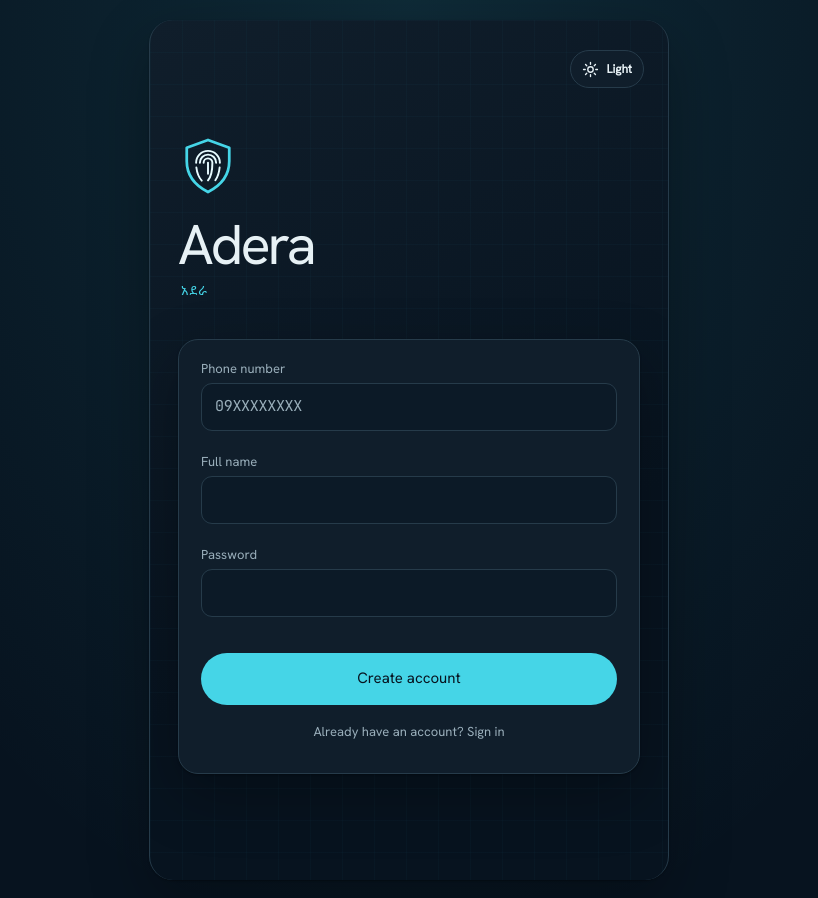
Test case: creating an account › needs a password of at least 8 characters
The image size is (818, 898).
Step 1. Type "0922123457" into the field labelled "Phone number" → (409, 407), box [201,383,617,431]
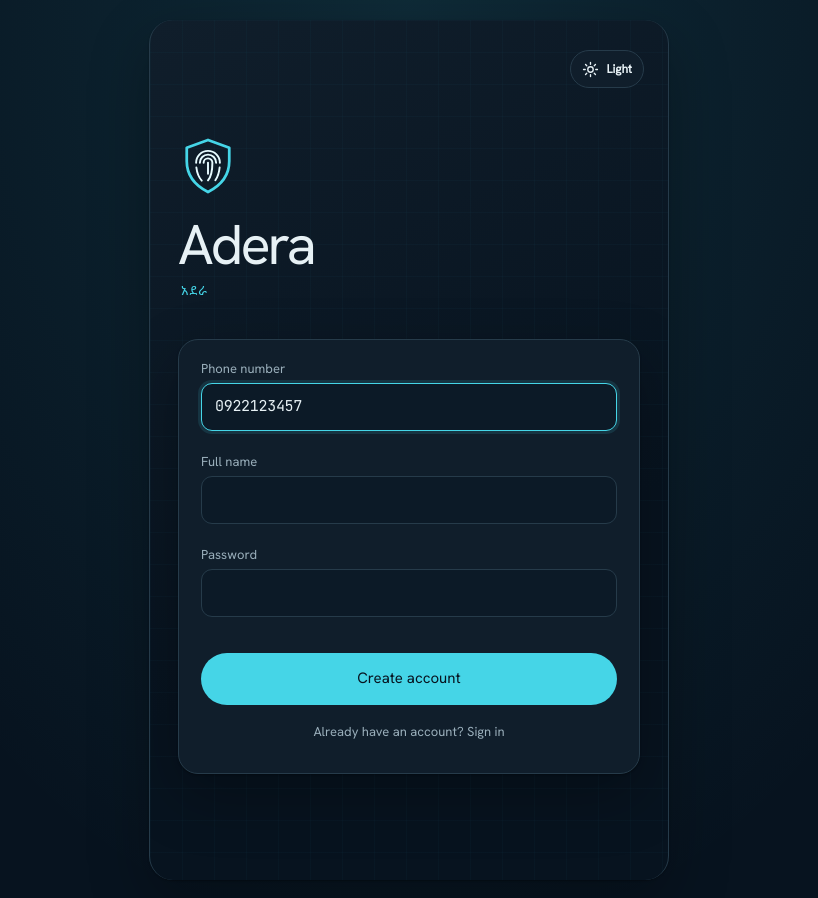
Step 2. Type "Sara Bekele" into the field labelled "Full name" → (409, 500), box [201,476,617,524]
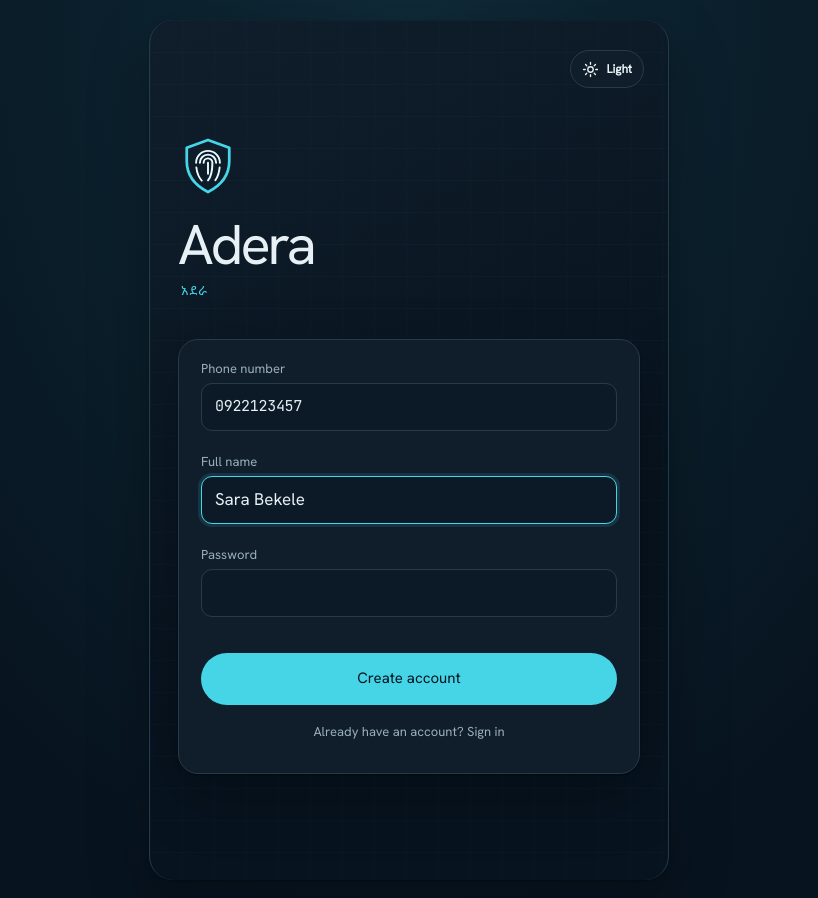
Step 3. Type "short" into the password field labelled "Password" → (409, 593), box [201,569,617,617]
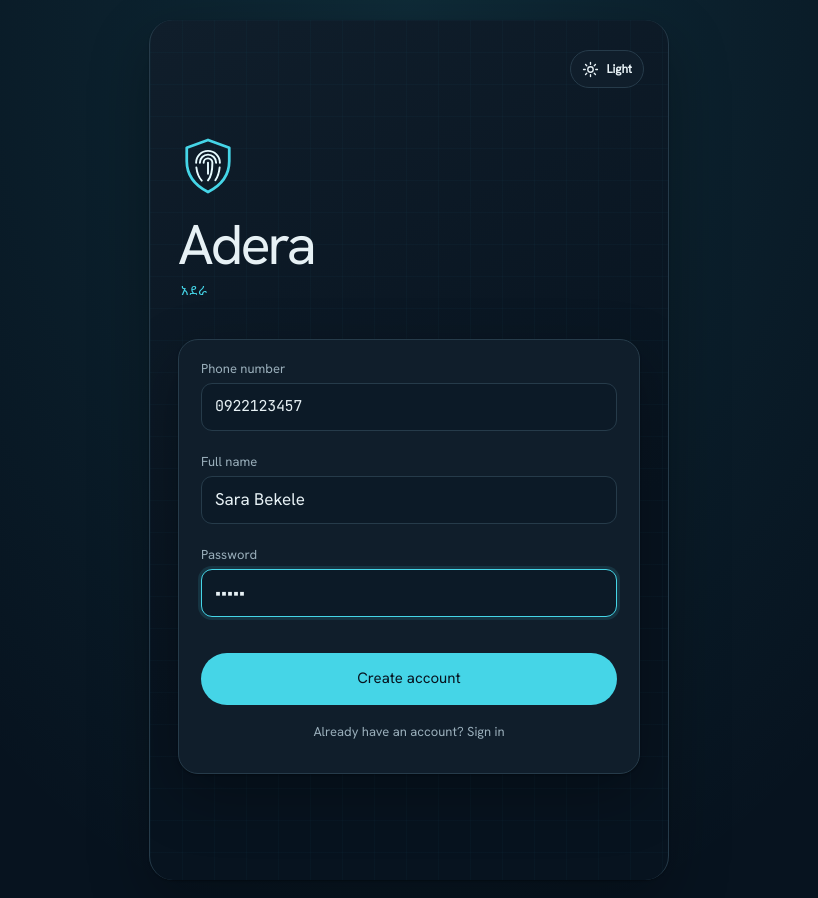
Step 4. Click the button "Create account" → (409, 679), box [201,653,617,705]
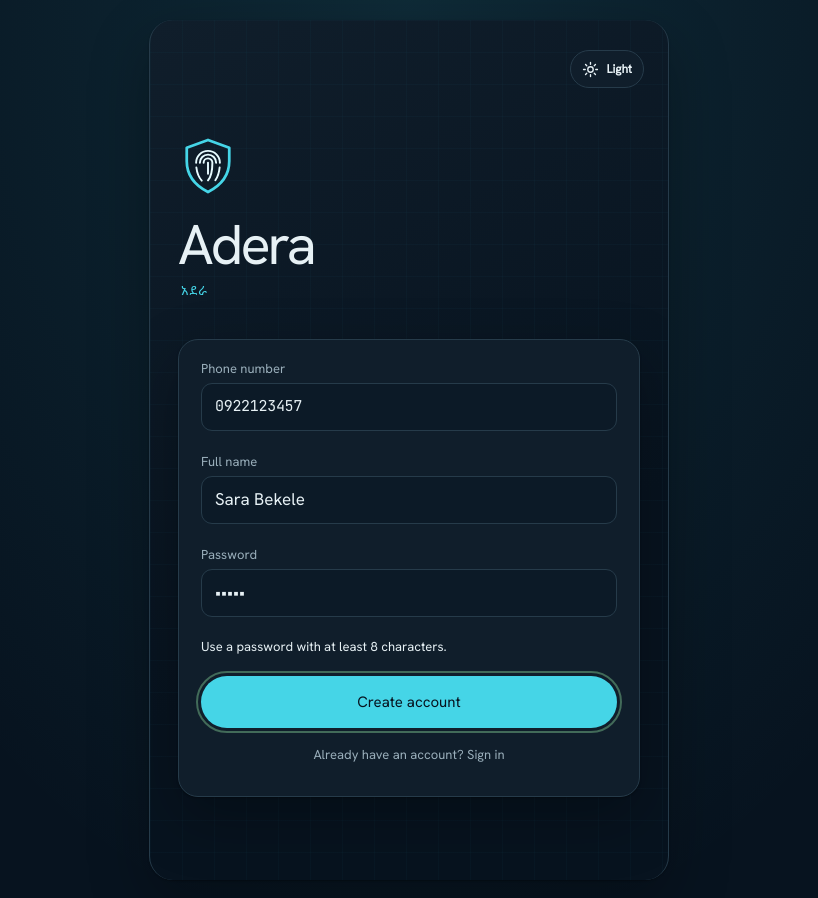
Check: the message shows "at least 8 characters", box [201,638,447,655]
